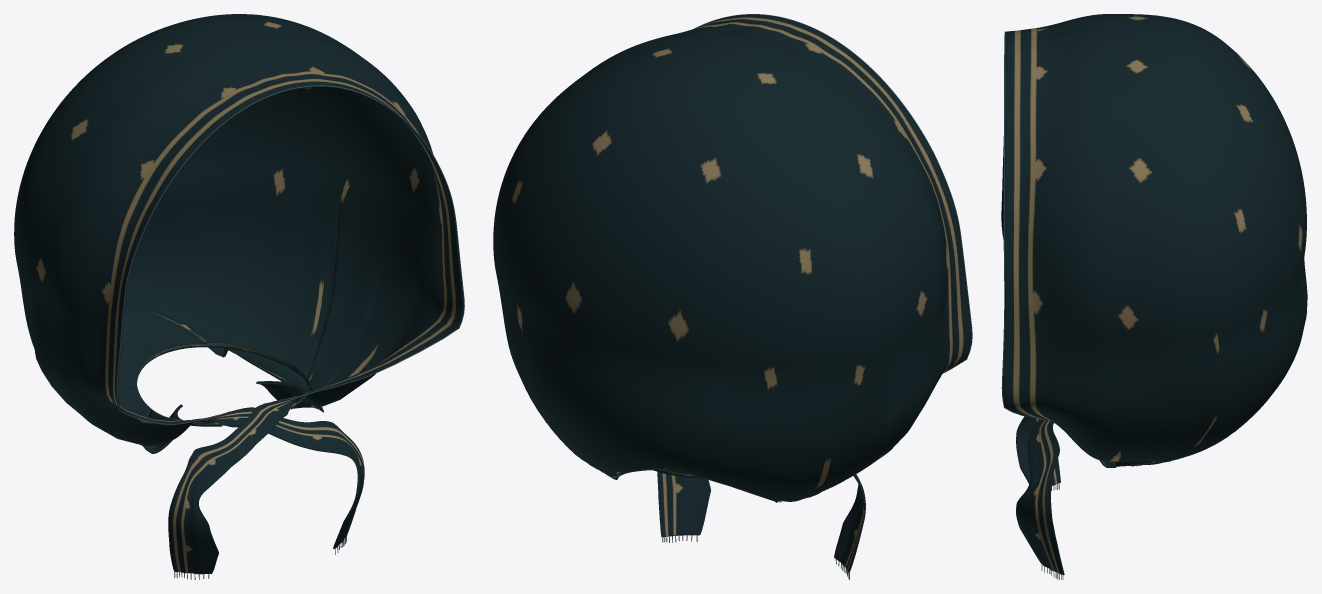
File: Feminine-ponytail-pashmina251-headgear.glb
3 renders of one model, left to right at view 1: azimuth 30°, elevation 25°; view 2: azimuth 150°, elevation 25°; view 3: azimuth 270°, elevation 25°, orthographic. The views are drawn at different scales.
Visible parts, largest first — view 1: 226 headgear / Headwear / continuous woven pashmina239.003, 226 headgear / Headwear / face edge239.003; view 2: 226 headgear / Headwear / continuous woven pashmina239.003, 226 headgear / Headwear / face edge239.003; view 3: 226 headgear / Headwear / continuous woven pashmina239.003, 226 headgear / Headwear / face edge239.003.
Boxes of the visible parts, box(x1,y1,x2,y2) form: 226 headgear / Headwear / continuous woven pashmina239.003: box(14, 14, 463, 574); 226 headgear / Headwear / face edge239.003: box(116, 85, 464, 425); 226 headgear / Headwear / continuous woven pashmina239.003: box(493, 14, 971, 573); 226 headgear / Headwear / face edge239.003: box(694, 14, 972, 373); 226 headgear / Headwear / continuous woven pashmina239.003: box(1001, 14, 1307, 575); 226 headgear / Headwear / face edge239.003: box(1001, 31, 1045, 419).
Bounding box in the file's own units: 1.07 × 1.38 × 0.7569.
3 materials, 1 textured.
